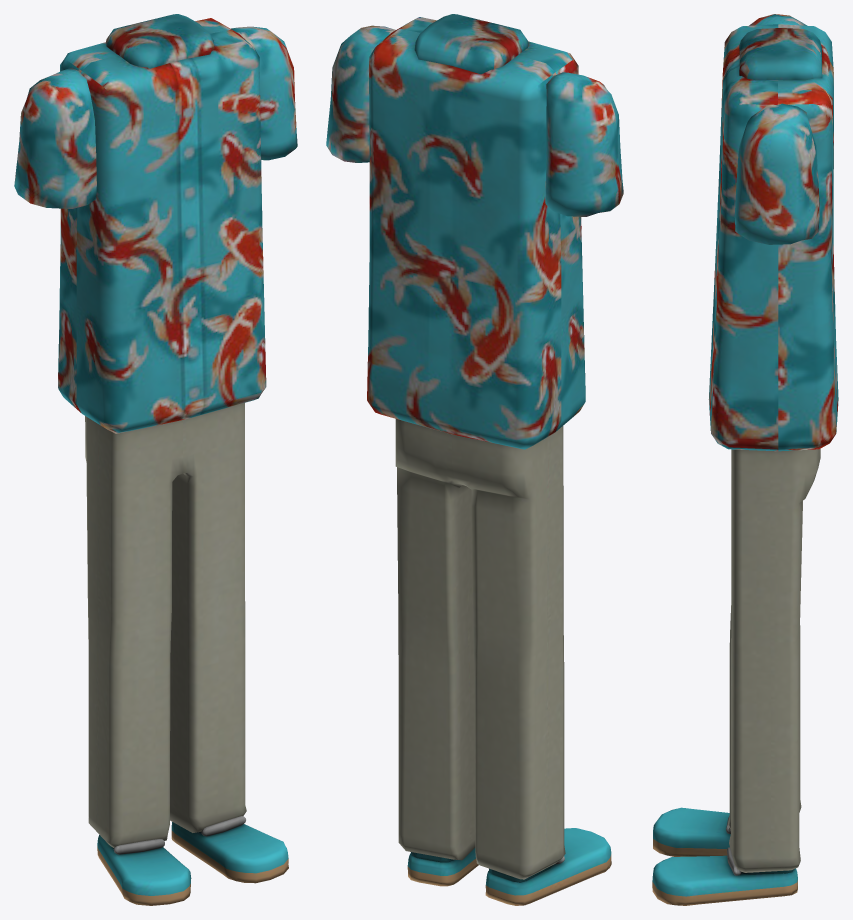
The model's file is body.obj.
The picture shows the model from 3 angles, left to right: view 1: azimuth 30°, elevation 25°; view 2: azimuth 150°, elevation 25°; view 3: azimuth 270°, elevation 25°; orthographic projection. The views are drawn at different scales.
Visible parts, largest first — view 1: body.obj; view 2: body.obj; view 3: body.obj.
Part boxes in pixels (bbox=[...]): body.obj: bbox=[14, 14, 297, 905]; body.obj: bbox=[326, 14, 623, 905]; body.obj: bbox=[652, 14, 838, 905].
Size of the model in its own units: 0.4839 by 1.41 by 0.2892.
Materials: 1 (1 with a texture image).
